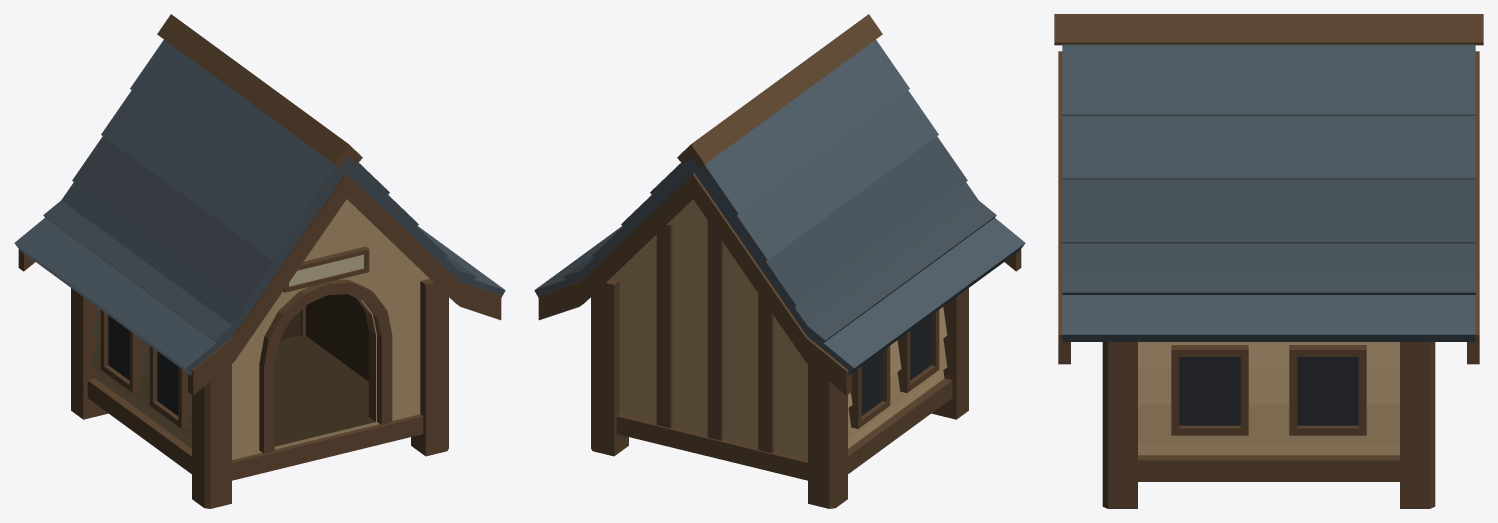
Rendered from backyard-doghouse-50a492.glb.
The picture shows the model from 3 angles, left to right: view 1: azimuth 30°, elevation 25°; view 2: azimuth 150°, elevation 25°; view 3: azimuth 270°, elevation 25°; orthographic projection. The views are drawn at different scales.
Parts seen in each view (by area): view 1: doghouse-body; view 2: doghouse-body; view 3: doghouse-body.
Part boxes in pixels (<box>): doghouse-body: <box>14,14,505,508</box>; doghouse-body: <box>534,14,1025,508</box>; doghouse-body: <box>1054,14,1483,508</box>.
Size of the model in its own units: 1.13 by 1.18 by 1.09.
